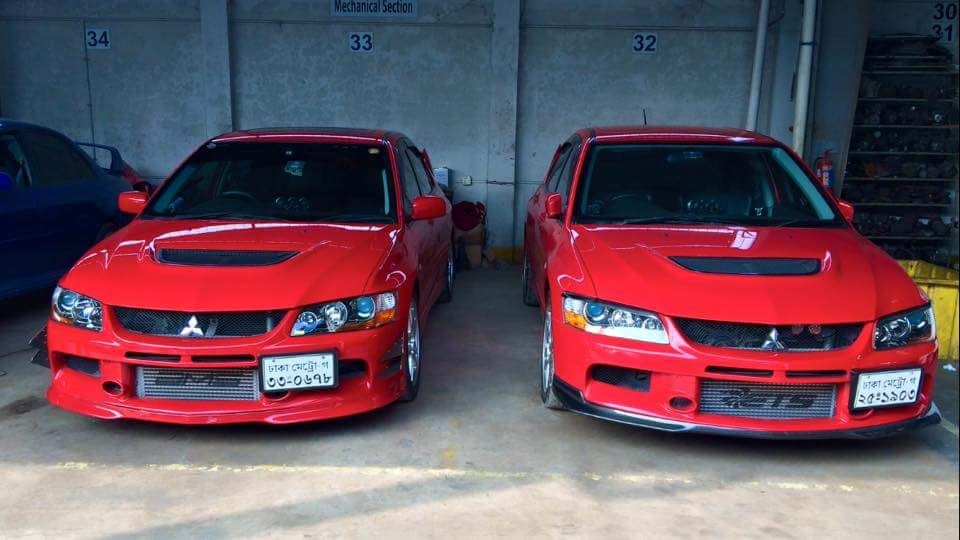registration_plate: (261, 352, 335, 392), (854, 368, 921, 408)
